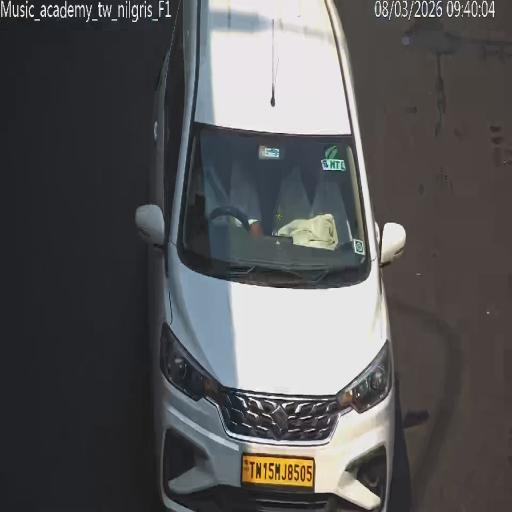person_with_seatbelt: (203, 161, 234, 227)
person_without_seatbelt: (284, 174, 340, 248)
